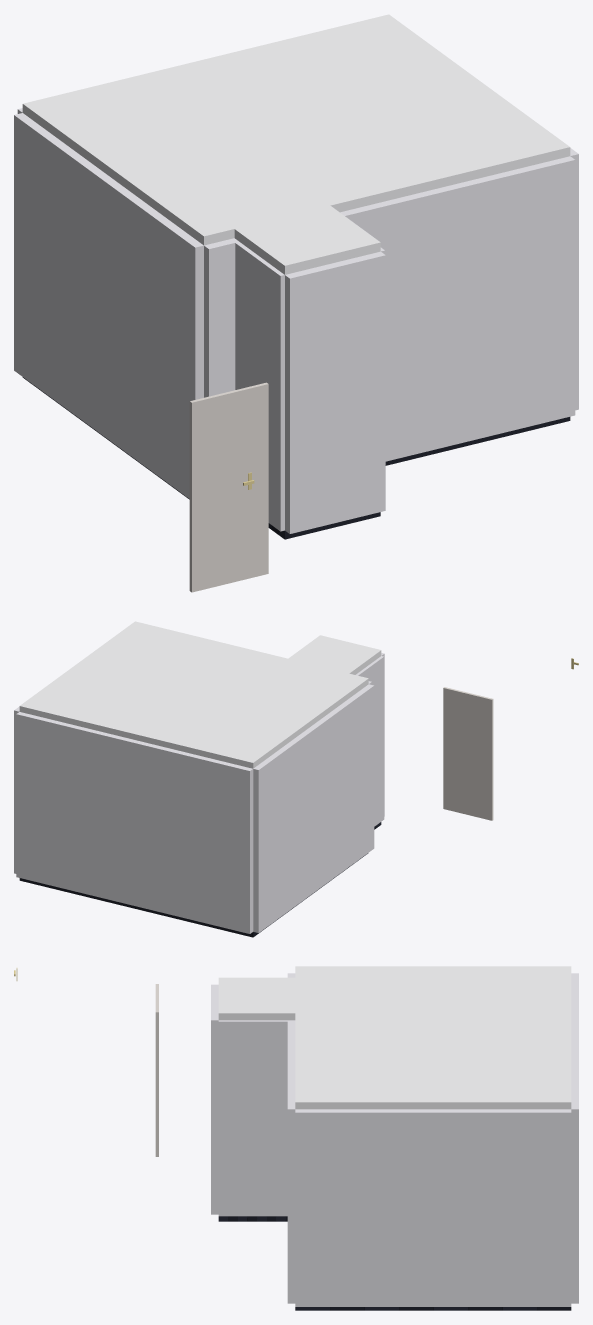
Rendered from group-a-essential.glb.
The picture shows the model from 3 angles, top to bottom: view 1: azimuth 30°, elevation 25°; view 2: azimuth 150°, elevation 25°; view 3: azimuth 270°, elevation 25°; orthographic projection. The views are drawn at different scales.
Parts seen in each view (by area): view 1: ceiling_main, wall_front_right, wall_left, wall_hallway_b, door_leaf, wall_hallway_l, ceiling_hallway, wall_front_left, floor_main, wall_right; view 2: wall_rear, ceiling_main, wall_left, door_leaf, ceiling_hallway, wall_hallway_l, floor_main, wall_right; view 3: wall_right, ceiling_main, wall_hallway_r, ceiling_hallway, wall_rear, wall_front_right, wall_hallway_b, floor_main, door_leaf.
Boxes of the visible parts, x1,y1,x2,y2 form: ceiling_main: (22, 14, 570, 245); wall_front_right: (340, 156, 575, 461); wall_left: (14, 113, 203, 498); wall_hallway_b: (285, 251, 385, 533); door_leaf: (189, 382, 268, 592); wall_hallway_l: (230, 238, 284, 531); ceiling_hallway: (234, 205, 380, 274); wall_front_left: (204, 238, 237, 397); floor_main: (22, 377, 570, 499); wall_right: (570, 148, 578, 410); wall_rear: (16, 712, 253, 933); ceiling_main: (19, 621, 368, 768); wall_left: (253, 684, 374, 932); door_leaf: (443, 687, 493, 820); ceiling_hallway: (288, 635, 381, 674); wall_hallway_l: (356, 656, 384, 826); floor_main: (19, 853, 368, 937); wall_right: (14, 706, 19, 873); wall_right: (295, 1109, 571, 1306); ceiling_main: (295, 966, 571, 1109); wall_hallway_r: (218, 1020, 287, 1216); ceiling_hallway: (218, 977, 295, 1020); wall_rear: (571, 973, 578, 1303); wall_front_right: (287, 1020, 295, 1303); wall_hallway_b: (211, 984, 218, 1214); floor_main: (295, 1307, 571, 1310); door_leaf: (155, 984, 158, 1156).
Size of the model in its own units: 5.96 by 3 by 7.37.
24 materials, 4 textured.
